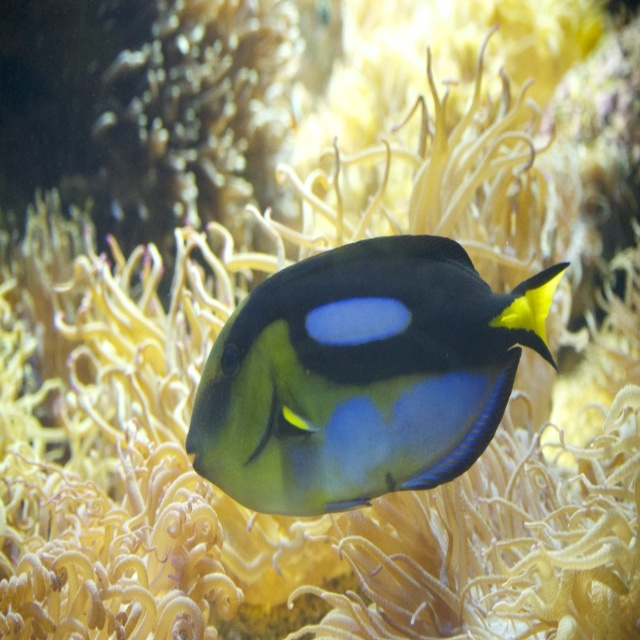Fish: (185, 234, 571, 518)
